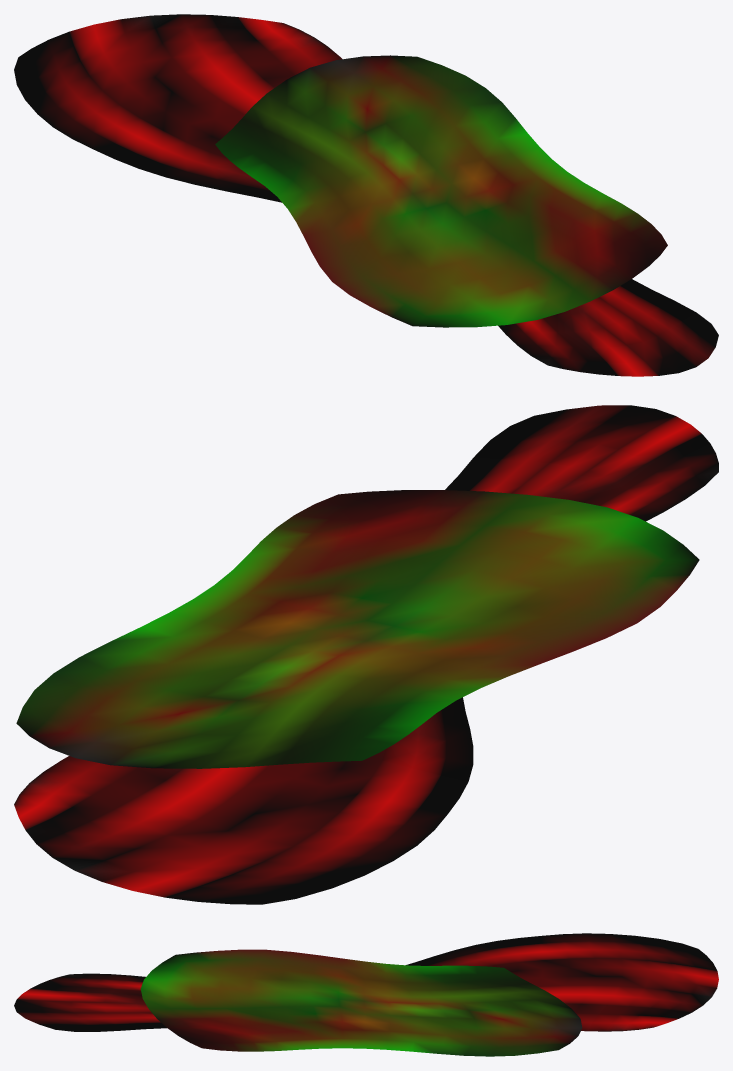
File: FogPlane_VC_00.fbx
3 renders of one model, top to bottom at view 1: azimuth 30°, elevation 25°; view 2: azimuth 150°, elevation 25°; view 3: azimuth 270°, elevation 25°, orthographic. The views are drawn at different scales.
Visible parts, largest first — view 1: FogPlane02, FogPlane01; view 2: FogPlane02, FogPlane01; view 3: FogPlane02, FogPlane01.
Part boxes in pixels (bbox=[...]): FogPlane02: bbox=[215, 55, 667, 327]; FogPlane01: bbox=[14, 14, 718, 376]; FogPlane02: bbox=[16, 490, 699, 768]; FogPlane01: bbox=[14, 405, 718, 904]; FogPlane02: bbox=[140, 949, 582, 1056]; FogPlane01: bbox=[14, 933, 718, 1031].
Bounding box in the file's own units: 452 × 5.26 × 1086.
